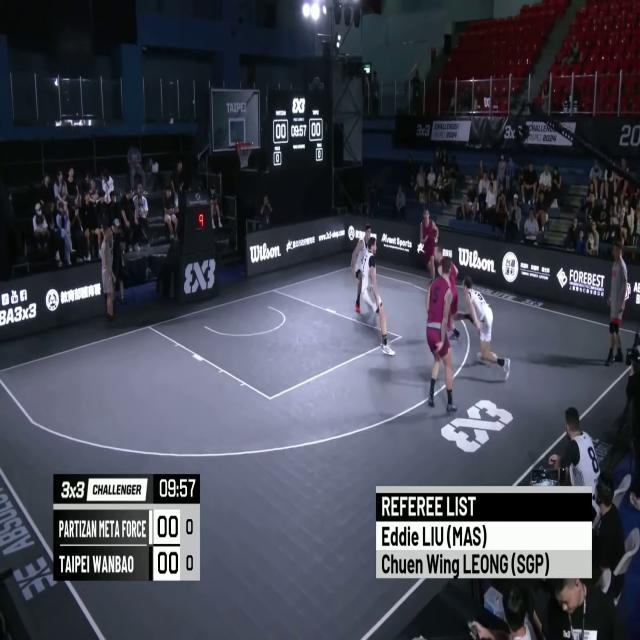hoop: (236, 139, 254, 171)
player: (461, 272, 511, 382), (425, 253, 456, 414), (356, 238, 396, 360), (431, 241, 462, 355), (351, 223, 371, 314), (420, 207, 438, 286)
